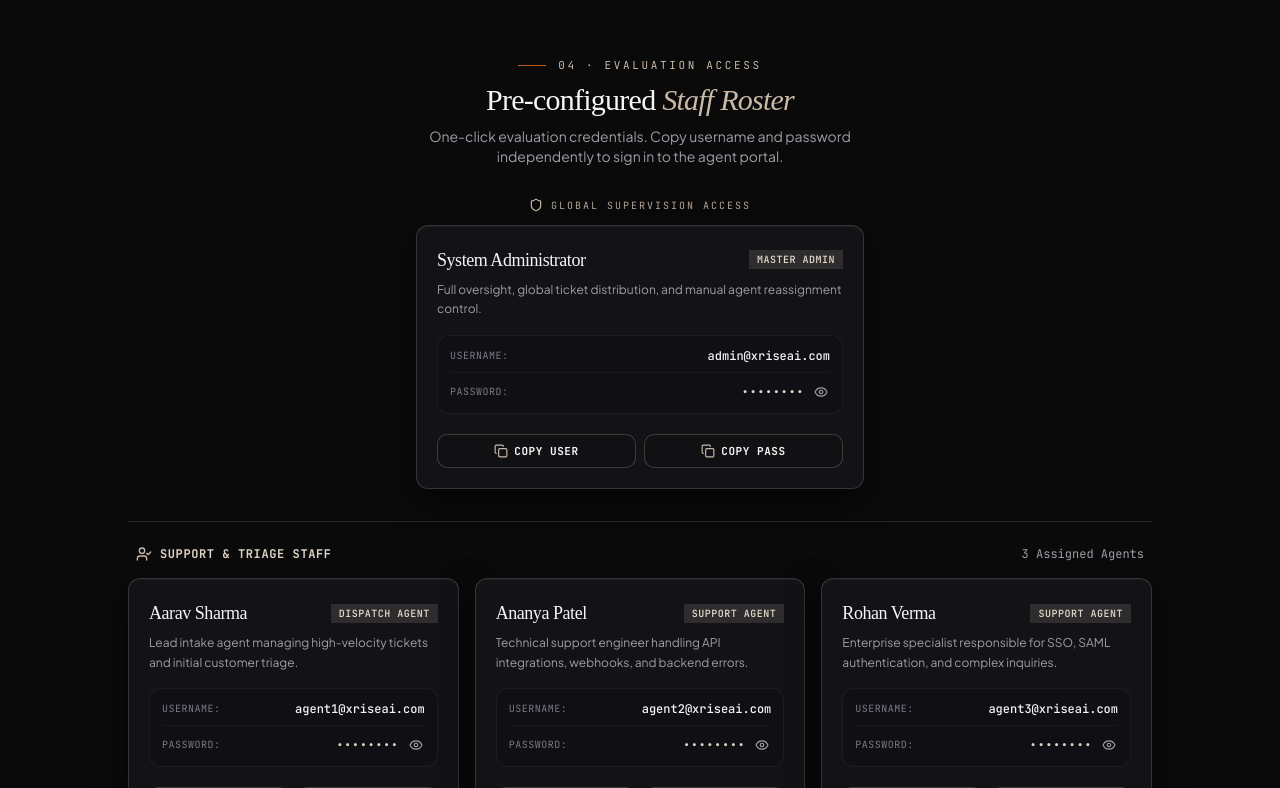
it: EvaluationAccess Component › copies username and password independently to clipboard and shows feedback
The width and height of the screenshot is (1280, 788).
Note: Test independent username copy
Click the button "Copy User" below "admin@xriseai.com": (536, 451) [437, 434, 636, 468]
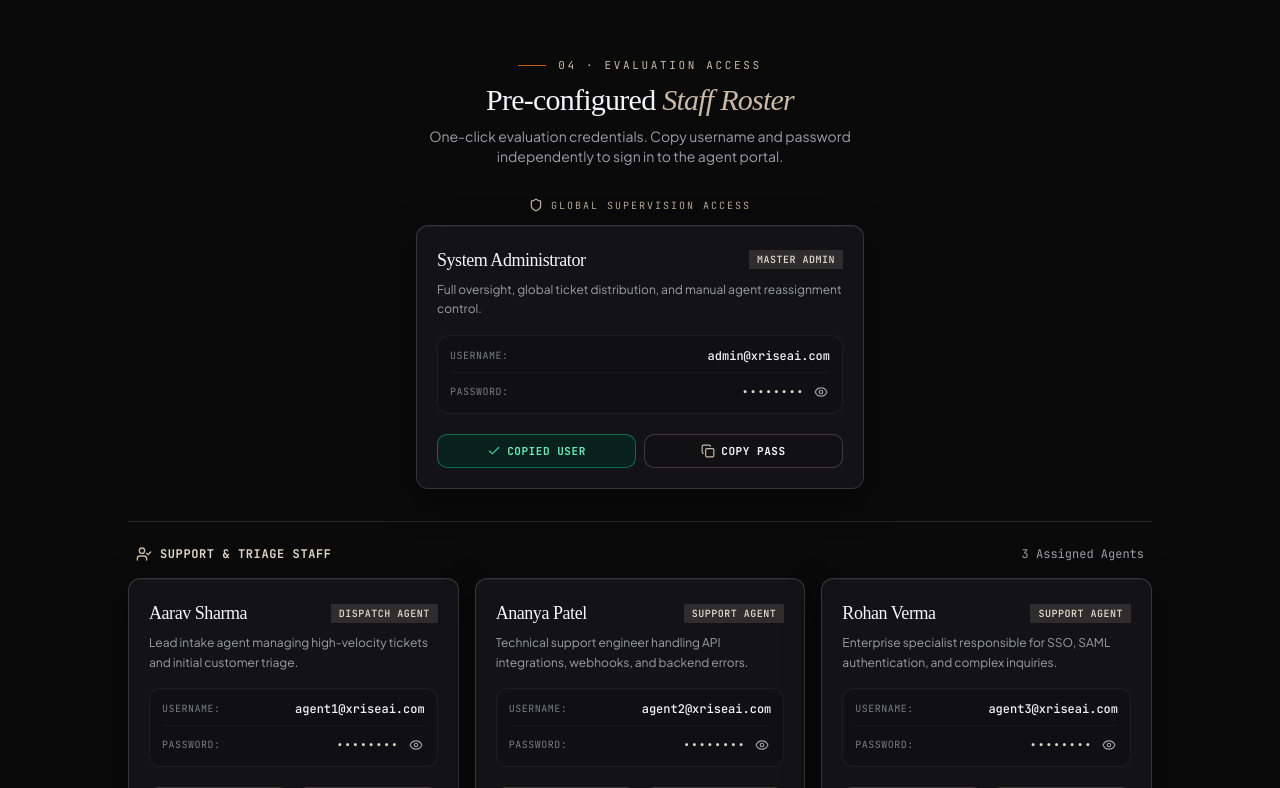
Now the text "Copied User" is shown, box [507, 443, 586, 459]
Note: Test independent password copy
Click the button "Copy Pass" below "admin@xriseai.com": (744, 451) [644, 434, 843, 468]
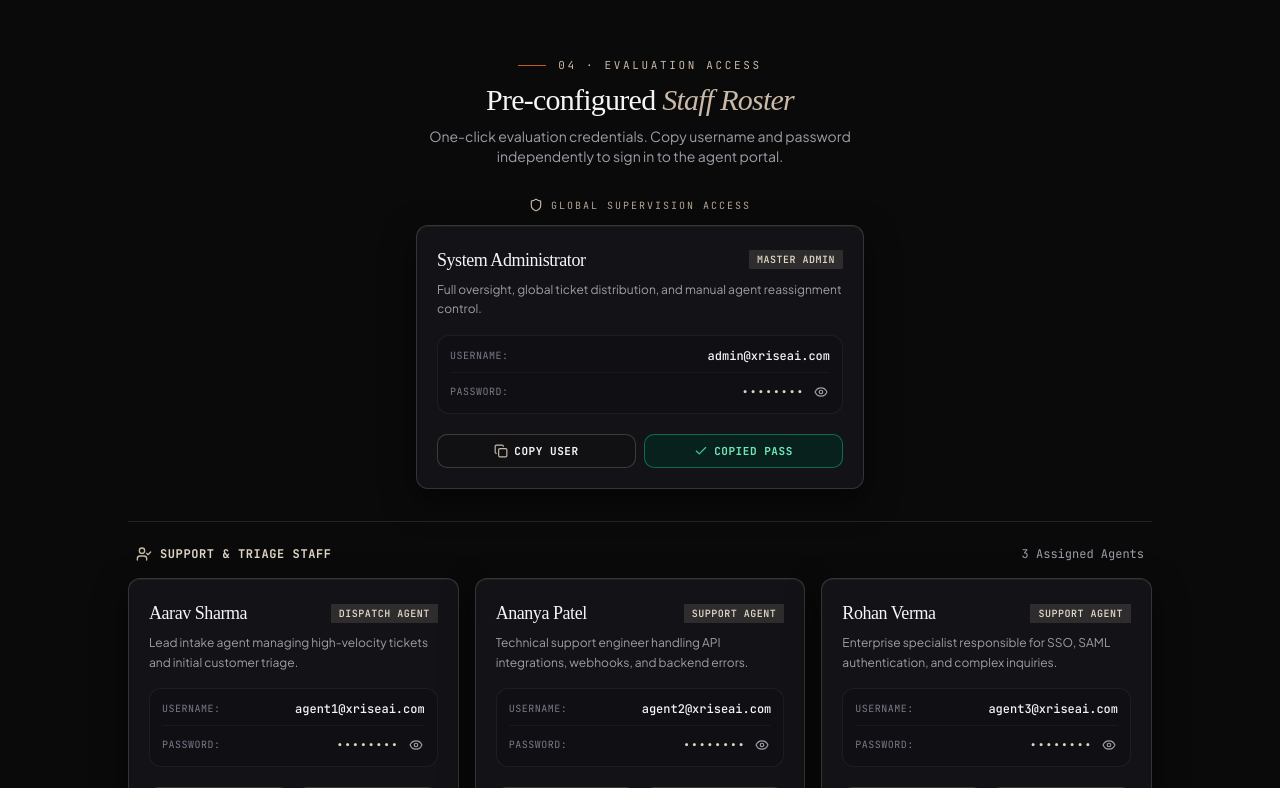
Now the text "Copied Pass" is shown, box [714, 443, 793, 459]
